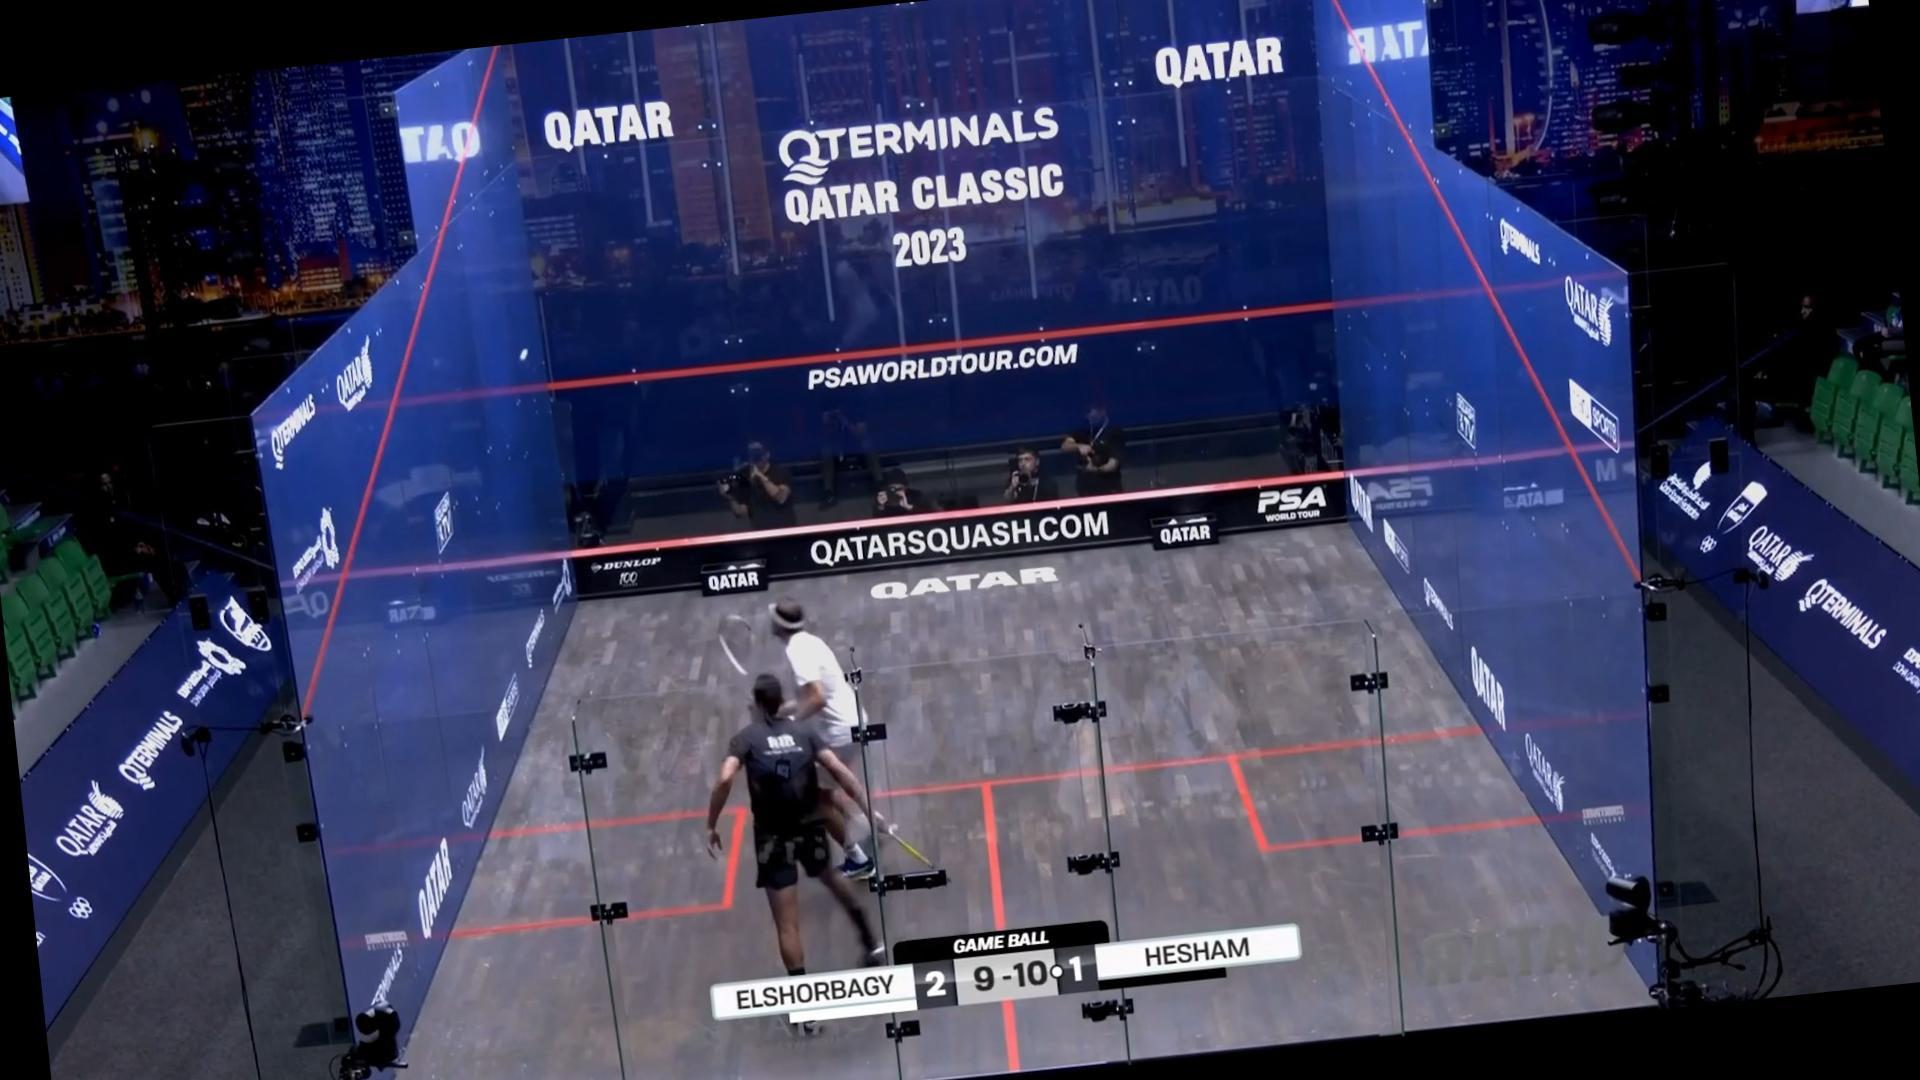Squash-Ball: (509, 340, 539, 368)
